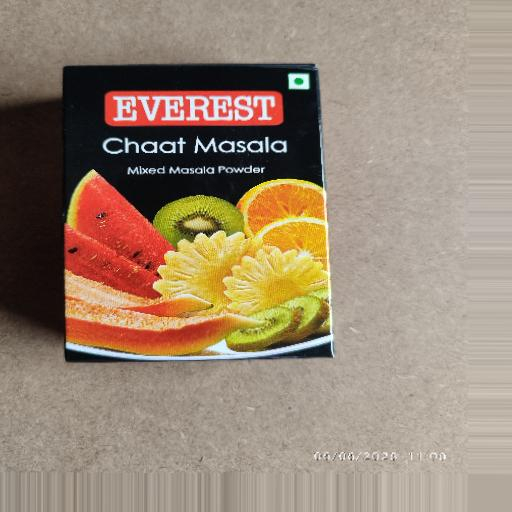Everest Chaat Masala: (20, 42, 396, 405)
